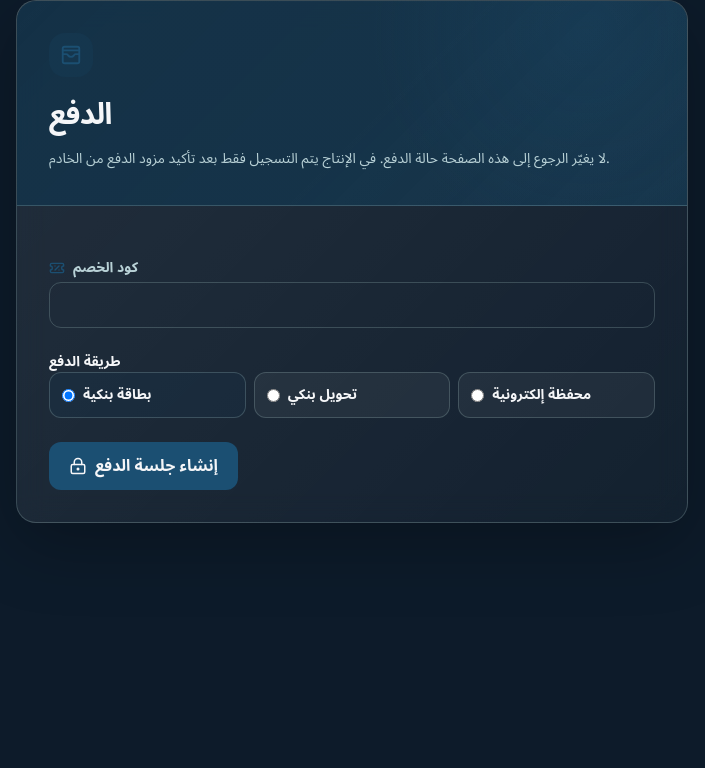
Test case: T7-A6.4 ar UI and financial contracts › BankTransfer payload remains technical while radio name is localized
Click the radio button labelled "تحويل بنكي" at (273, 395), box x1=267 y1=388 x2=280 y2=402
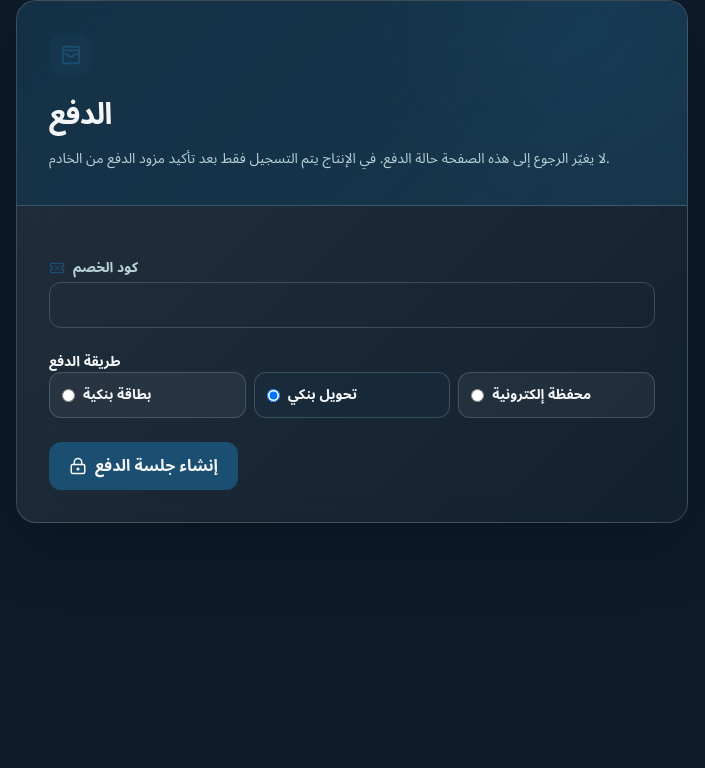
Type " RAW_coupon " into the field labelled "كود الخصم" at (352, 305), box x1=49 y1=282 x2=655 y2=328
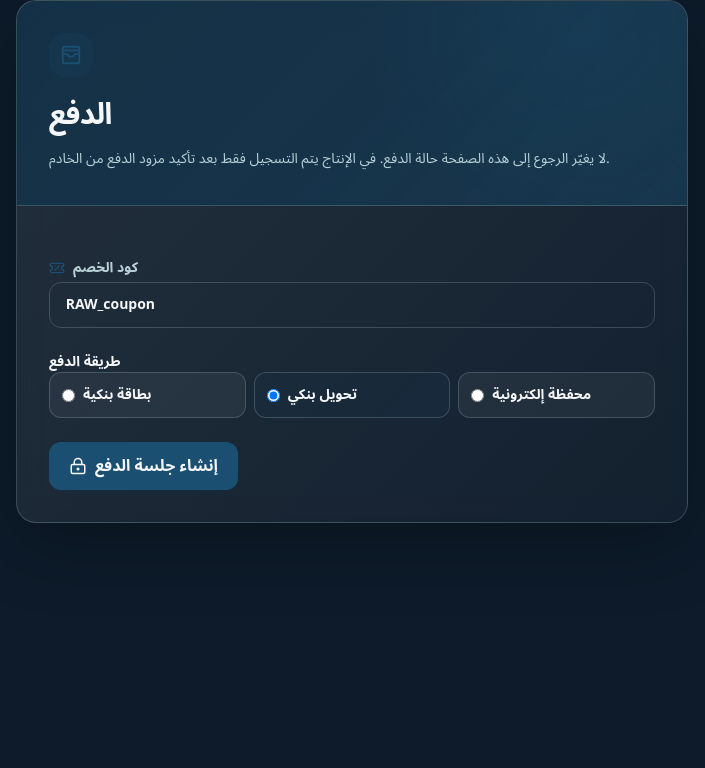
Click the button "إنشاء جلسة الدفع" at (143, 466), box x1=49 y1=442 x2=238 y2=490
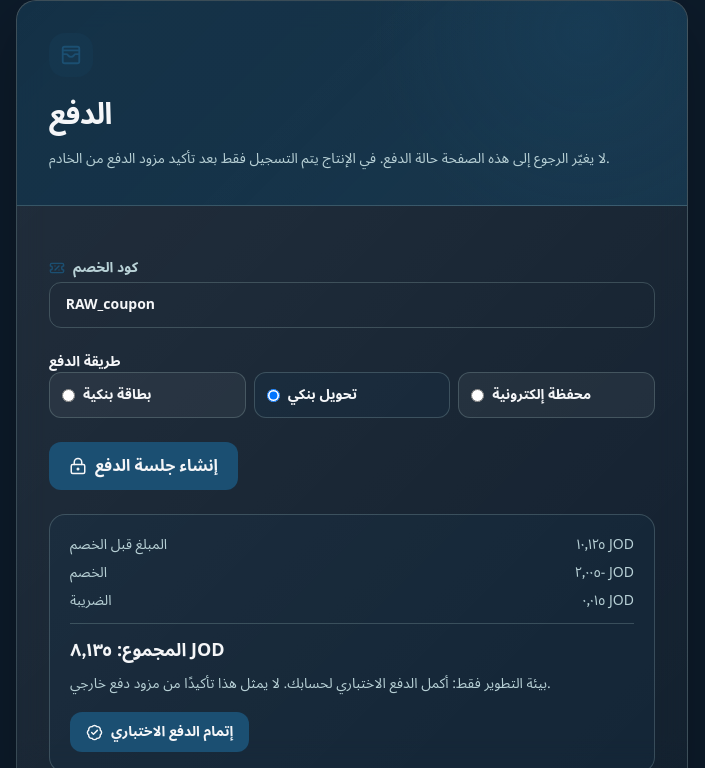
Expected: the text "بيئة التطوير فقط: أكمل الدفع الاختباري لحسابك. لا يمثل هذا تأكيدًا من مزود دفع خارجي." is shown, x1=70 y1=669 x2=551 y2=698
